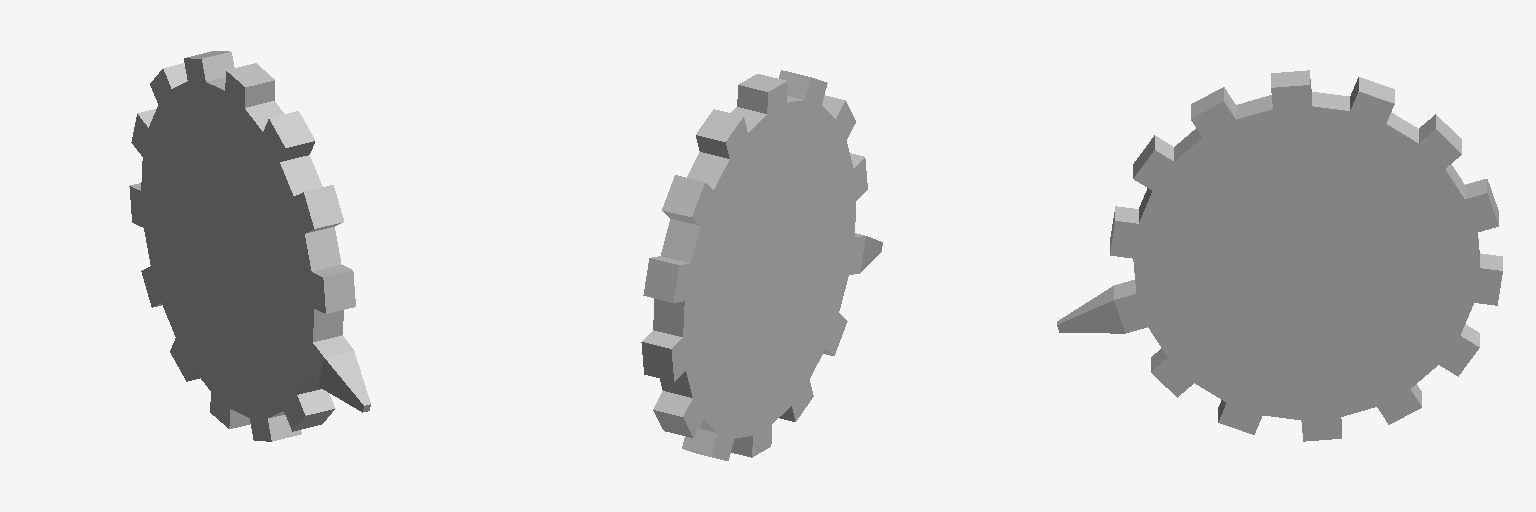
The model's file is gear_000007.obj.
The picture shows the model from 3 angles: view 1: azimuth 30°, elevation 25°; view 2: azimuth 150°, elevation 25°; view 3: azimuth 270°, elevation 25°; orthographic projection.
Visible parts, largest first — view 1: gear_Cylinder.001; view 2: gear_Cylinder.001; view 3: gear_Cylinder.001.
Boxes of the visible parts, <box> form: gear_Cylinder.001: <box>129,51,370,441</box>; gear_Cylinder.001: <box>641,70,882,460</box>; gear_Cylinder.001: <box>1057,70,1502,441</box>.
Bounding box in the file's own units: 0.1 × 1.13 × 1.29.